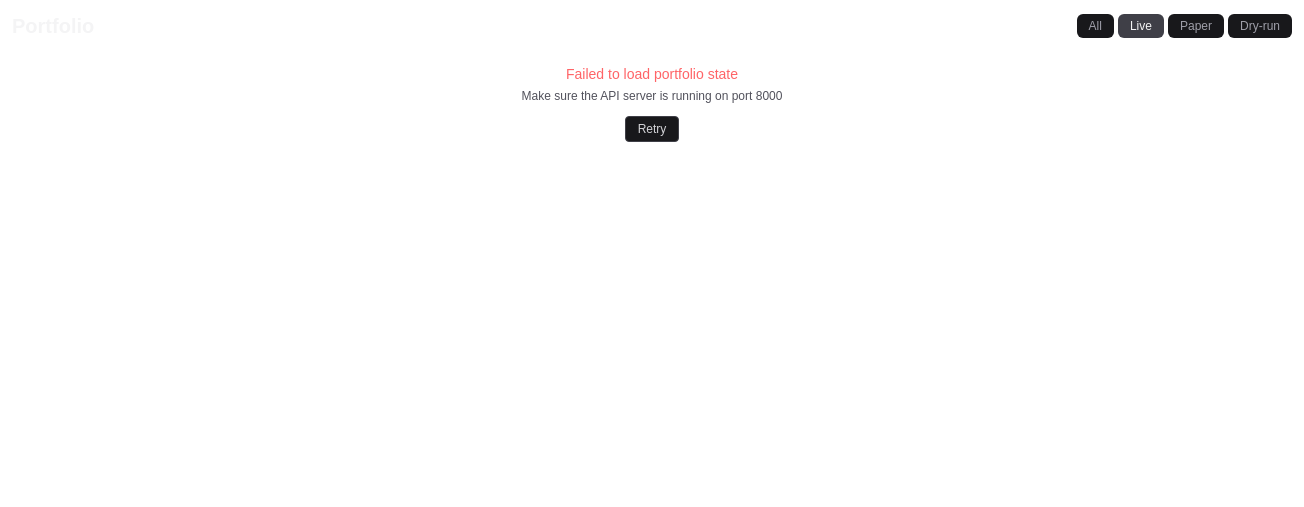
Portfolio Page › shows the default portfolio error for non-Error failures and retries
The width and height of the screenshot is (1304, 507).
Expected: the message is shown, [522,64,782,142]
Expected: the text "Failed to load portfolio state" is shown, [566,66,738,82]
What coordinates should you click on to do the following:
click the button "Retry"
I would click on:
 (652, 129)
Its box is [625,116,679,142].
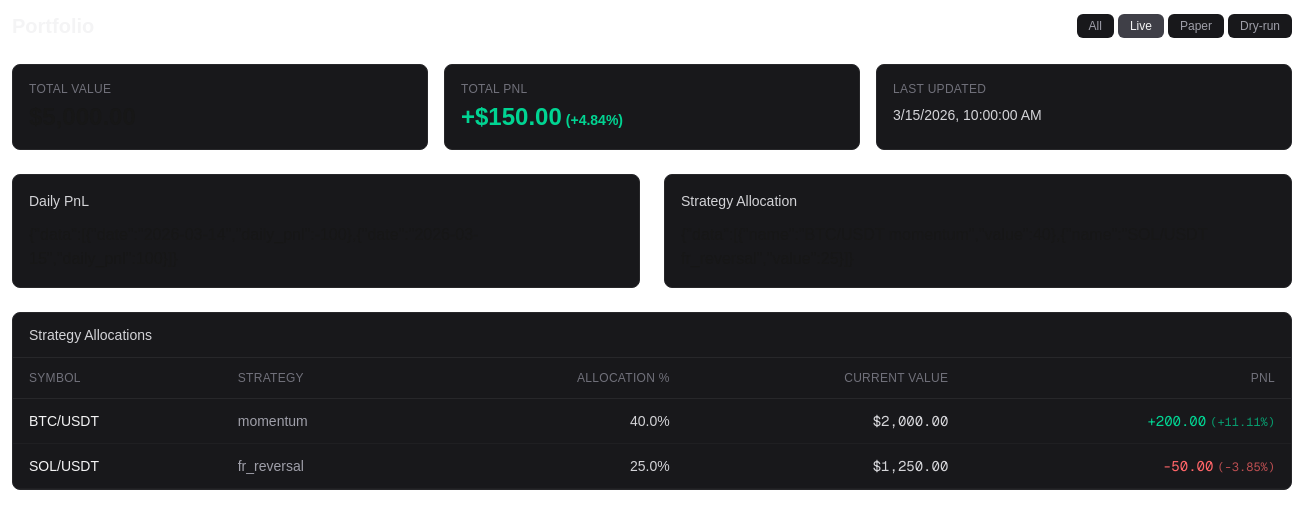
Expected: the text "BTC/USDT" is shown, [13,398,222,444]
